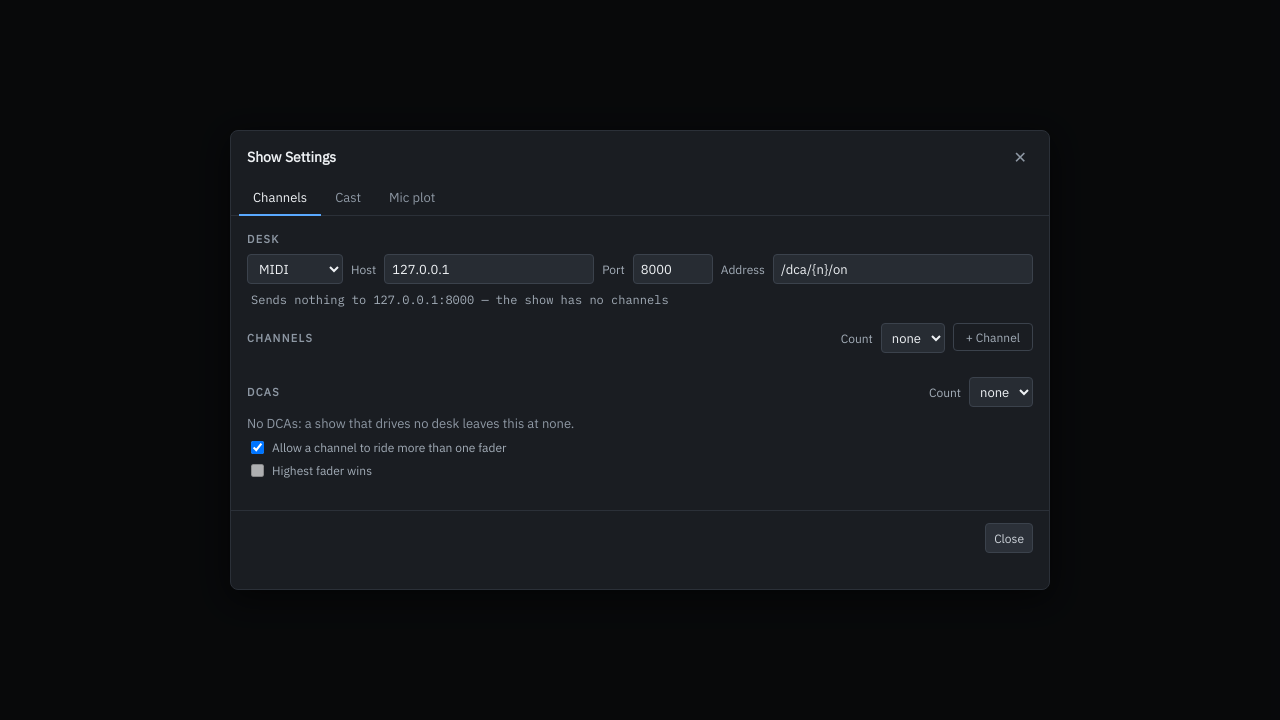
Scenario: ShowSettings › channels › sends nothing when the show has no strips
Expected: the text with class "desk-preview" reads "Sends nothing to 127.0.0.1:8000 — the show has no channels", [251,292,669,307]
Select "MIDI" in the dropdown with class "desk-kind" at (295, 269), box [247,254,343,284]
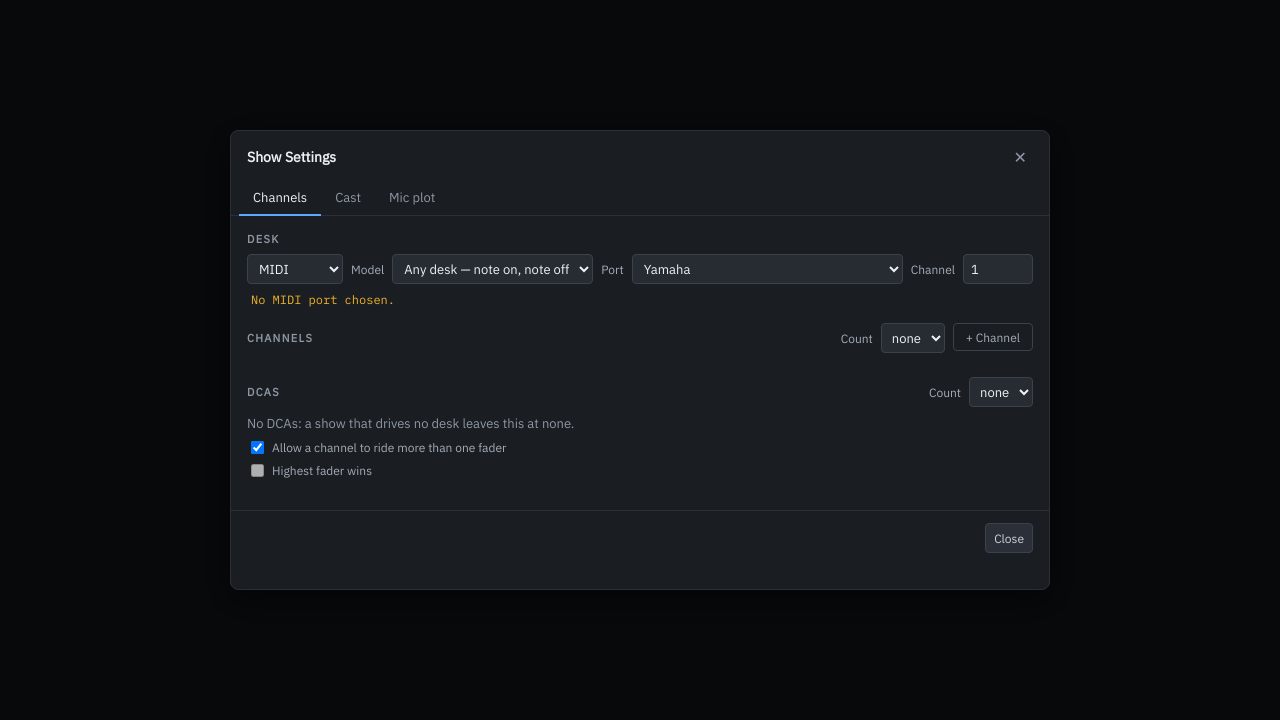
Select "Yamaha" in the dropdown with class "desk-midi-port" at (767, 269), box [632,254,903,284]
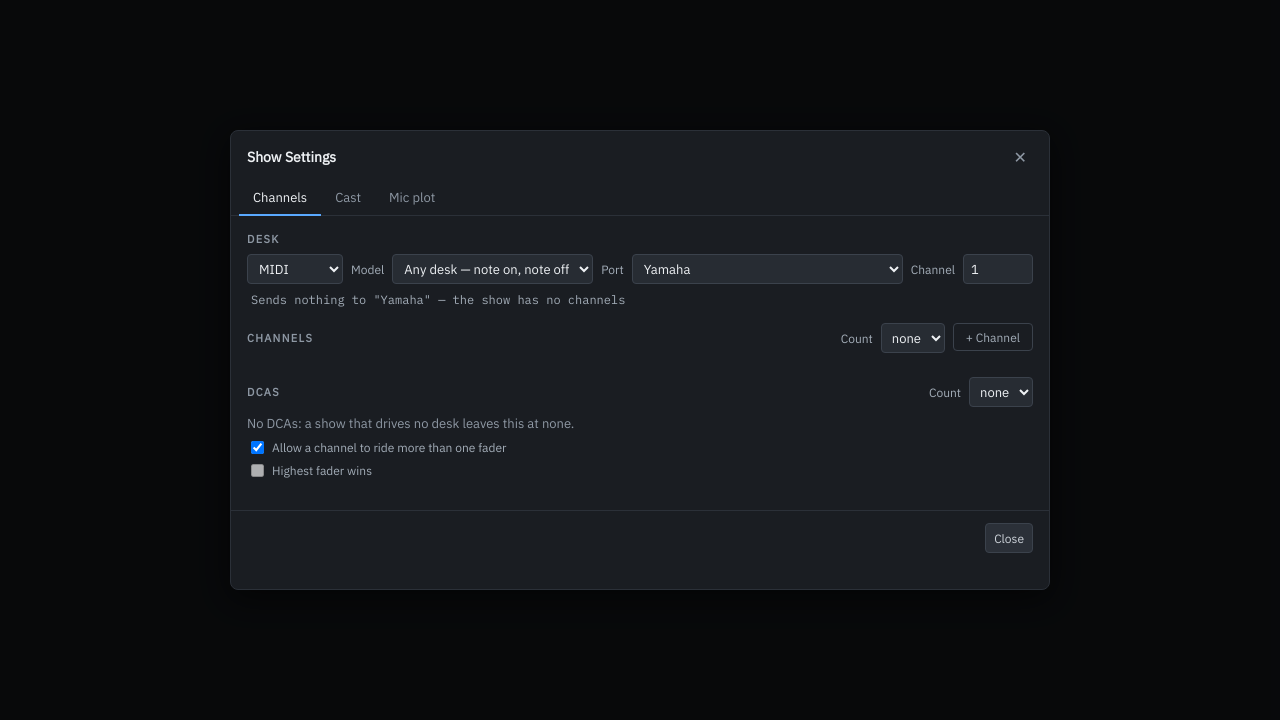
Expected: the text with class "desk-preview" reads "Sends nothing to \"Yamaha\" — the show has no channels", [251,292,625,307]
